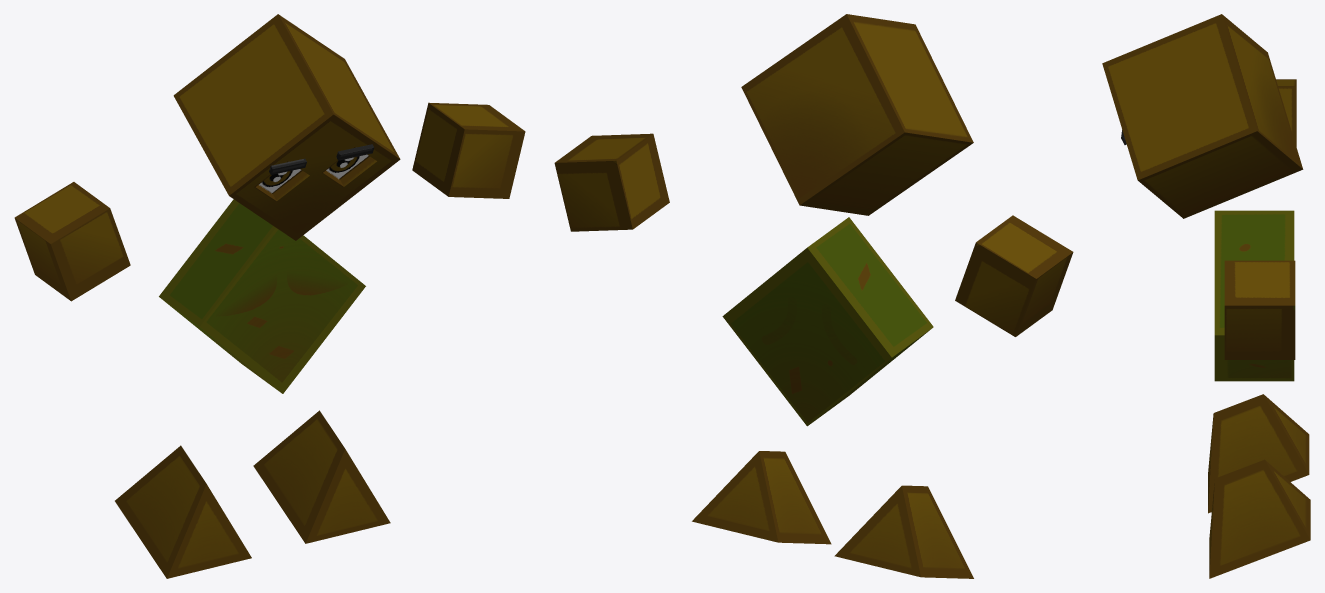
File: CoadjuvantesCrusificado.obj
The picture shows the model from 3 angles, left to right: view 1: azimuth 30°, elevation 25°; view 2: azimuth 150°, elevation 25°; view 3: azimuth 270°, elevation 25°; orthographic projection. The views are drawn at different scales.
Parts seen in each view (by area): view 1: Corpo_Cube.006; view 2: Corpo_Cube.006; view 3: Corpo_Cube.006.
Part boxes in pixels (left/top/right/bottom): Corpo_Cube.006: left=14, top=14, right=525, bottom=578; Corpo_Cube.006: left=554, top=14, right=1073, bottom=578; Corpo_Cube.006: left=1102, top=14, right=1310, bottom=578.
Bounding box in the file's own units: 3.73 × 3.99 × 1.46.
